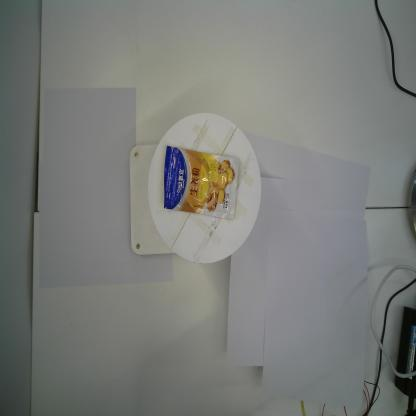Seasoner: (164, 144, 240, 219)
